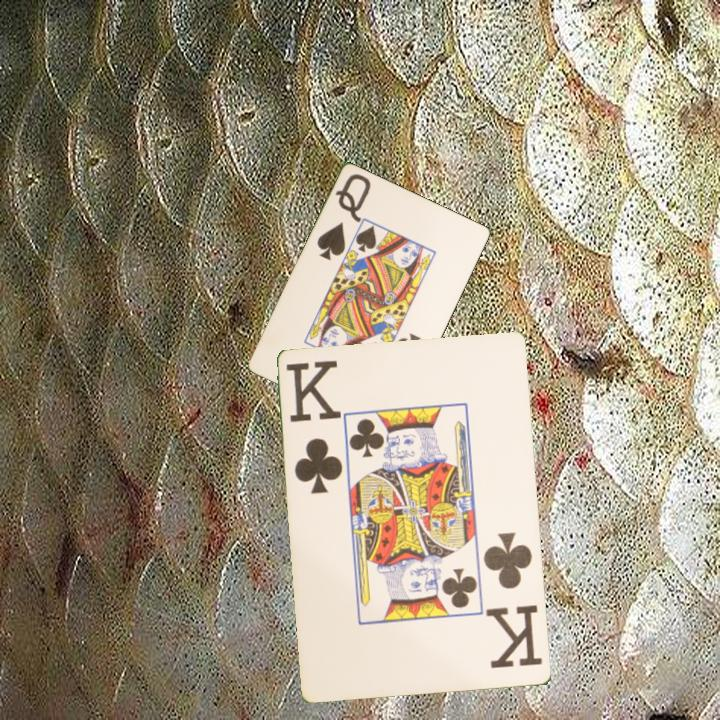Kc: (480, 529, 546, 672), (283, 357, 346, 498)
Qs: (313, 170, 374, 264)
